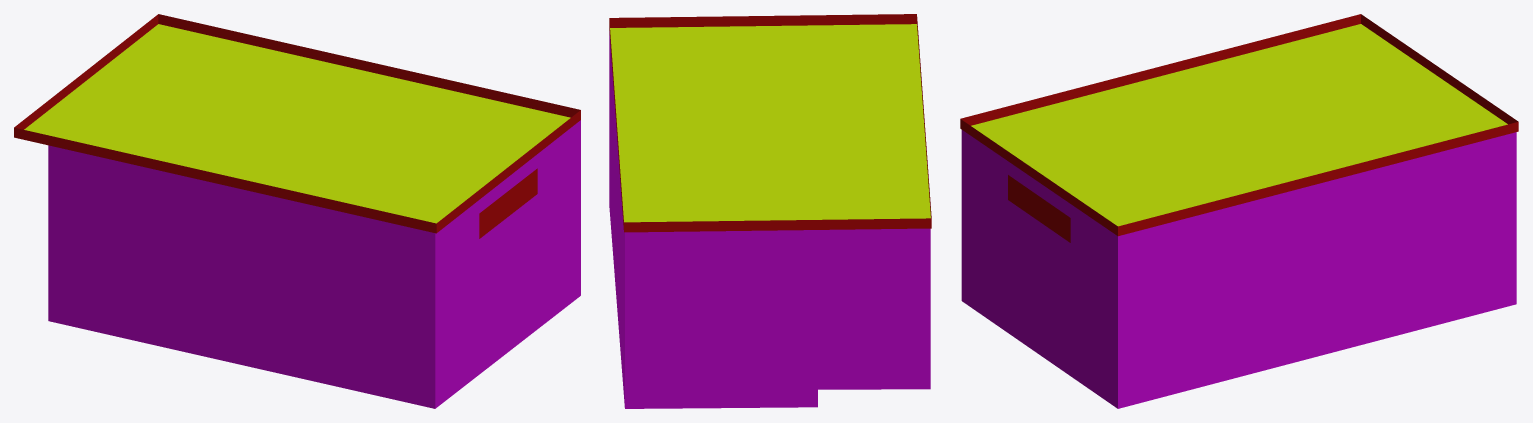
Rendered from scl_22.glb.
3 renders of one model, left to right at view 1: azimuth 30°, elevation 25°; view 2: azimuth 150°, elevation 25°; view 3: azimuth 270°, elevation 25°, orthographic. The views are drawn at different scales.
Parts seen in each view (by area): view 1: scl_22; view 2: scl_22; view 3: scl_22.
Part boxes in pixels (bbox=[...]): scl_22: bbox=[14, 14, 580, 408]; scl_22: bbox=[609, 14, 931, 408]; scl_22: bbox=[960, 14, 1518, 408].
Size of the model in its own units: 16.23 by 6.5 by 18.02.
